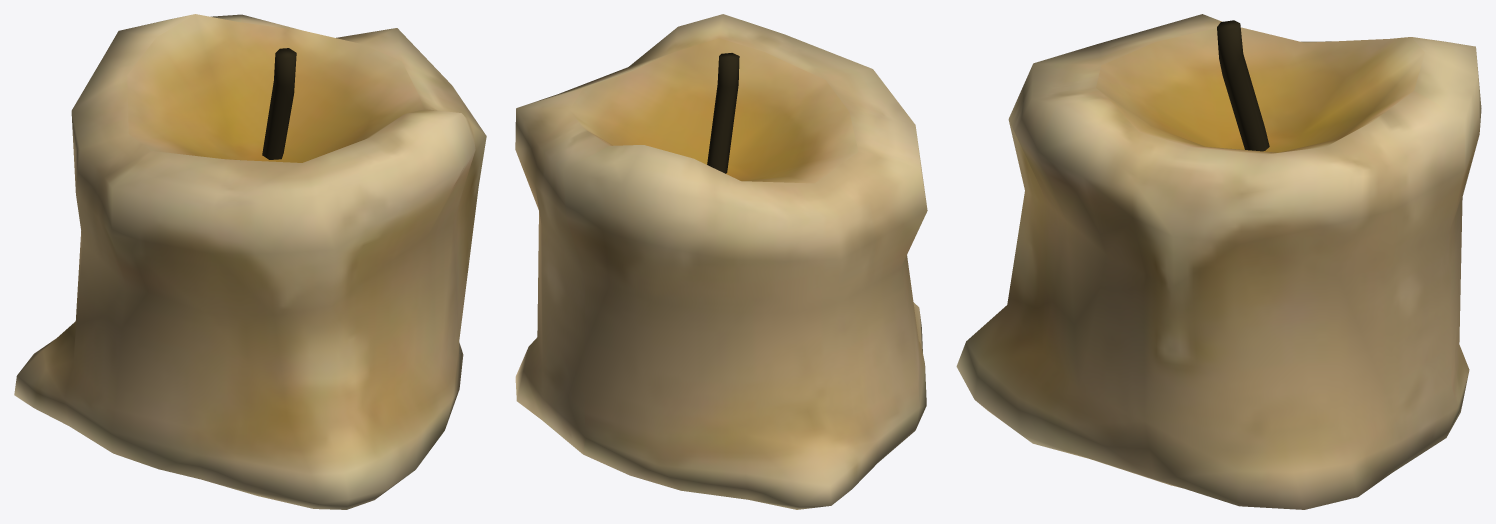
File: candlesmall_lit.glb
The picture shows the model from 3 angles, left to right: view 1: azimuth 30°, elevation 25°; view 2: azimuth 150°, elevation 25°; view 3: azimuth 270°, elevation 25°; orthographic projection. The views are drawn at different scales.
Visible parts, largest first — view 1: candleSmall_lit; view 2: candleSmall_lit; view 3: candleSmall_lit.
Part boxes in pixels (x1,y1,x2,y2): candleSmall_lit: (14, 14, 486, 509); candleSmall_lit: (515, 14, 927, 509); candleSmall_lit: (956, 14, 1481, 509).
Bounding box in the file's own units: 0.114 × 0.1072 × 0.1257.
1 material, 1 textured.
